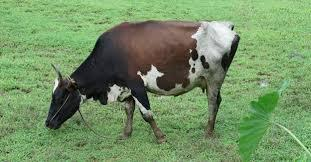cow: (44, 22, 241, 144)
